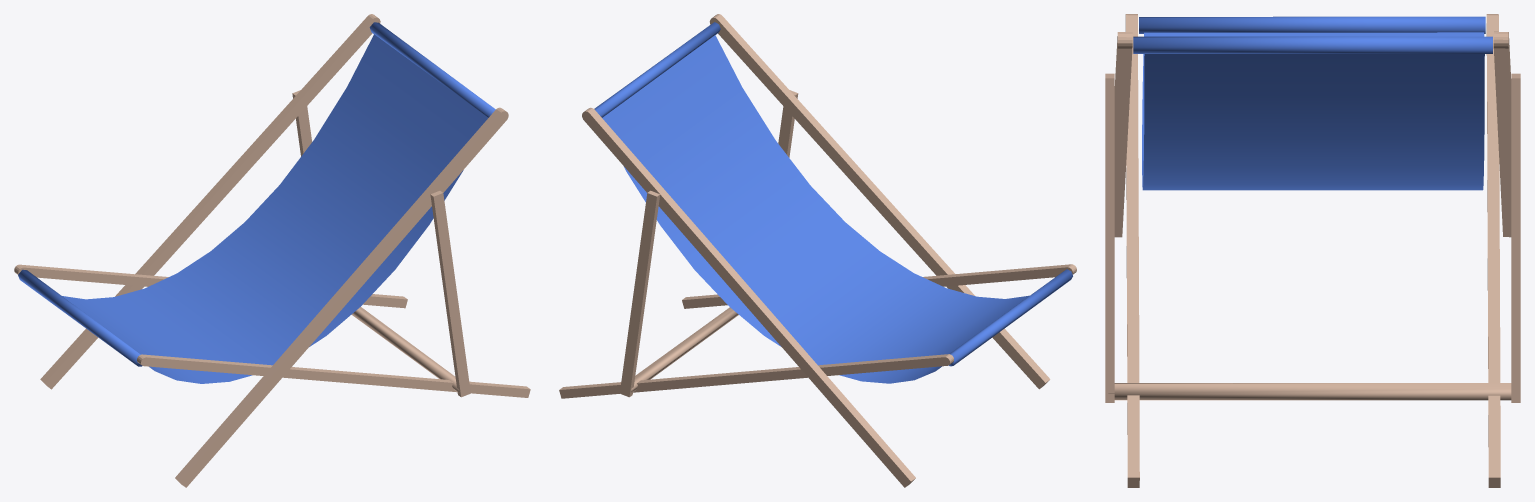
File: transat.dae
The picture shows the model from 3 angles, left to right: view 1: azimuth 30°, elevation 25°; view 2: azimuth 150°, elevation 25°; view 3: azimuth 270°, elevation 25°; orthographic projection. The views are drawn at different scales.
Parts seen in each view (by area): view 1: tissu, tiges; view 2: tissu, tiges; view 3: tissu, tiges.
Part boxes in pixels (x1,y1,x2,y2): tissu: (18, 22, 495, 383); tiges: (14, 14, 530, 487); tissu: (594, 22, 1072, 383); tiges: (559, 14, 1076, 487); tissu: (1133, 16, 1492, 190); tiges: (1105, 14, 1520, 487).
Bounding box in the file's own units: 5.85 × 3.66 × 4.23.
